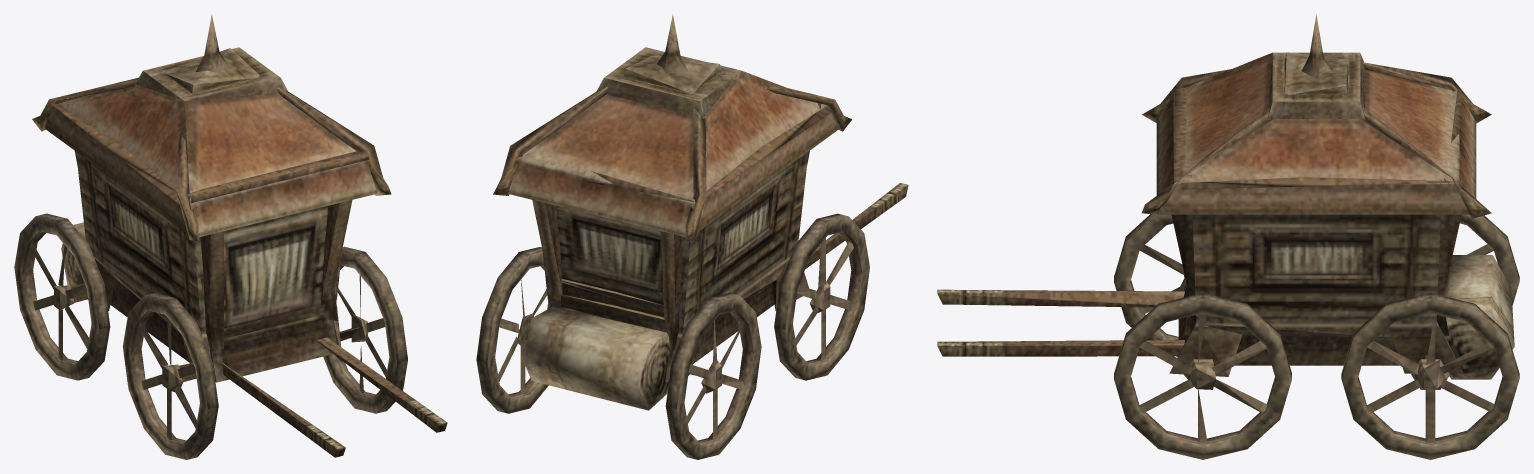
Rendered from desert_carriage01_lod_01.fbx.
The picture shows the model from 3 angles, left to right: view 1: azimuth 30°, elevation 25°; view 2: azimuth 150°, elevation 25°; view 3: azimuth 270°, elevation 25°; orthographic projection. The views are drawn at different scales.
Visible parts, largest first — view 1: Bip01; view 2: Bip01; view 3: Bip01.
Part boxes in pixels (x1=…): Bip01: x1=14, y1=14, x2=447, y2=459; Bip01: x1=476, y1=14, x2=908, y2=459; Bip01: x1=937, y1=14, x2=1519, y2=459.
Size of the model in its own units: 2.41 by 4.33 by 5.78.
